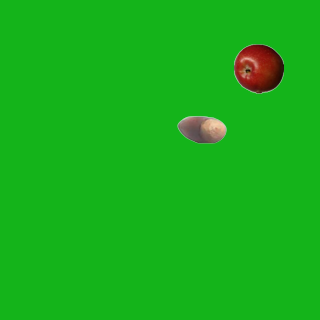Apple Braeburn: (233, 43, 283, 93)
Hazelnut: (176, 104, 226, 154)
